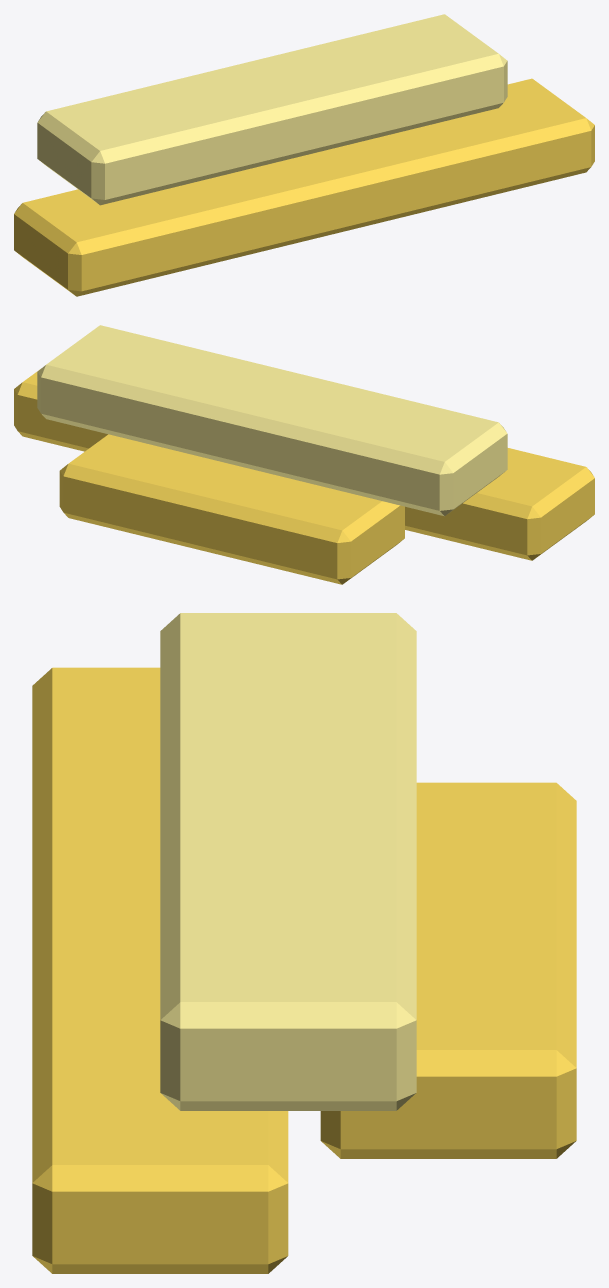
Rendered from resource_gold_bars.glb.
The picture shows the model from 3 angles, top to bottom: view 1: azimuth 30°, elevation 25°; view 2: azimuth 150°, elevation 25°; view 3: azimuth 270°, elevation 25°; orthographic projection. The views are drawn at different scales.
Parts seen in each view (by area): view 1: resource_gold_bars_bar_4, resource_gold_bars_bar_1, resource_gold_bars_bar_2, resource_gold_bars_bar_5; view 2: resource_gold_bars_bar_3, resource_gold_bars_bar_4, resource_gold_bars_bar_5, resource_gold_bars_bar_1, resource_gold_bars_bar_2; view 3: resource_gold_bars_bar_4, resource_gold_bars_bar_2, resource_gold_bars_bar_3, resource_gold_bars_bar_5, resource_gold_bars_bar_1.
Boxes of the visible parts, x1=… form: resource_gold_bars_bar_4: x1=37, y1=44, x2=378, y2=205; resource_gold_bars_bar_1: x1=14, y1=161, x2=355, y2=296; resource_gold_bars_bar_2: x1=281, y1=78, x2=594, y2=235; resource_gold_bars_bar_5: x1=176, y1=14, x2=507, y2=170; resource_gold_bars_bar_3: x1=59, y1=434, x2=404, y2=584; resource_gold_bars_bar_4: x1=166, y1=362, x2=507, y2=516; resource_gold_bars_bar_5: x1=37, y1=325, x2=373, y2=479; resource_gold_bars_bar_1: x1=405, y1=448, x2=594, y2=560; resource_gold_bars_bar_2: x1=14, y1=370, x2=107, y2=451; resource_gold_bars_bar_4: x1=160, y1=613, x2=416, y2=897; resource_gold_bars_bar_2: x1=32, y1=900, x2=288, y2=1273; resource_gold_bars_bar_3: x1=320, y1=782, x2=576, y2=1158; resource_gold_bars_bar_5: x1=160, y1=740, x2=416, y2=1110; resource_gold_bars_bar_1: x1=32, y1=667, x2=160, y2=935.
Size of the model in its own units: 1.52 by 0.3 by 0.68.
